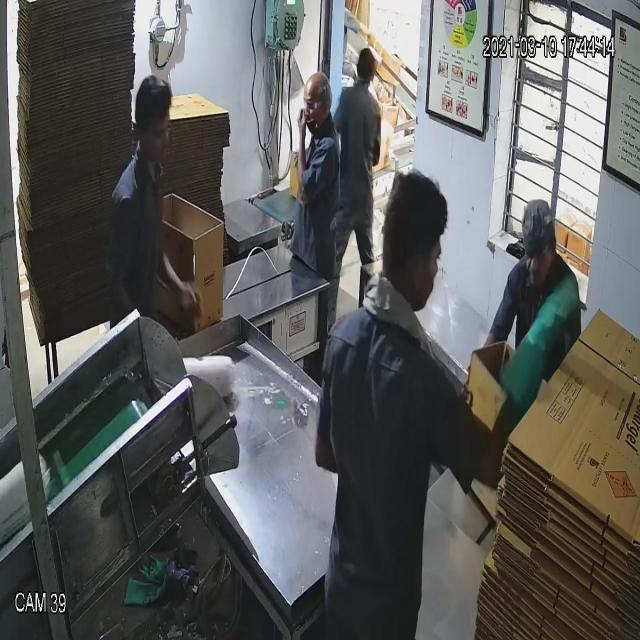No_Gloves: (30, 113, 537, 337)
